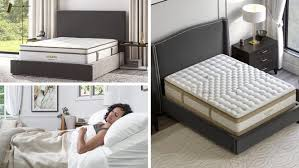bed-matress: (163, 51, 294, 137), (1, 126, 149, 168), (19, 35, 121, 64)
